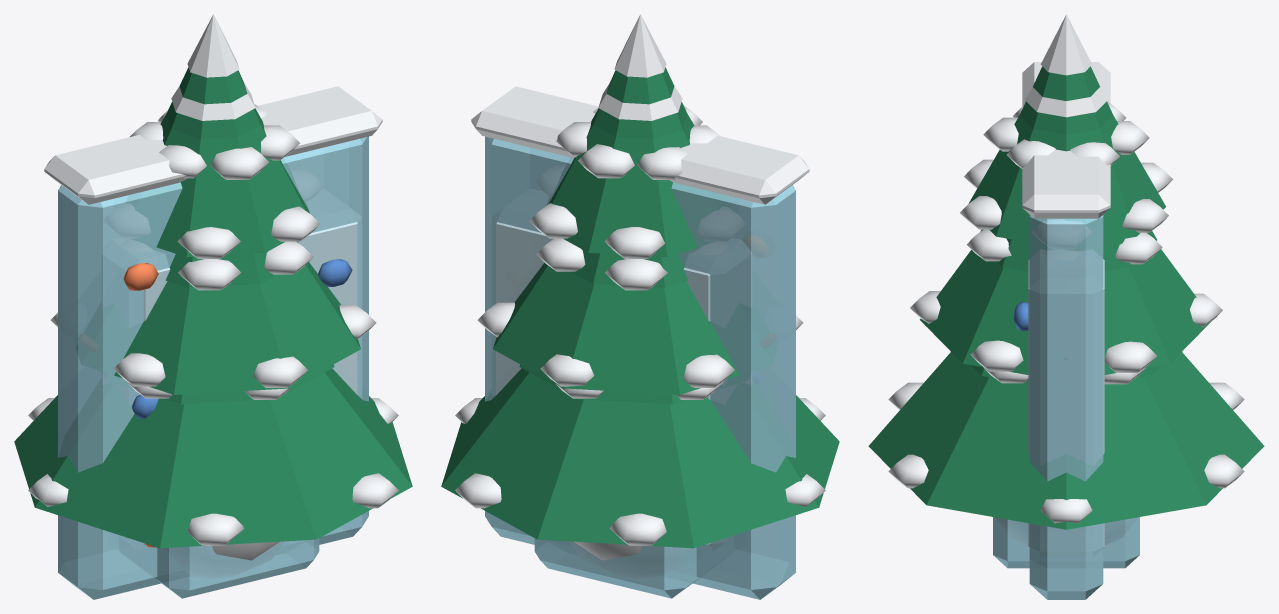
The model's file is pico-props.glb.
3 renders of one model, left to right at view 1: azimuth 30°, elevation 25°; view 2: azimuth 150°, elevation 25°; view 3: azimuth 270°, elevation 25°, orthographic. The views are drawn at different scales.
Parts seen in each view (by area): view 1: pinheiro-nevado-a, painel-de-gelo, pinheiro-nevado-b, bloco-de-gelo, boneco-de-neve; view 2: pinheiro-nevado-a, painel-de-gelo, pinheiro-nevado-b, bloco-de-gelo, boneco-de-neve; view 3: pinheiro-nevado-a, painel-de-gelo, pinheiro-nevado-b, bloco-de-gelo.
Boxes of the visible parts, x1,y1,x2,y2 form: pinheiro-nevado-a: (14,83,412,548); painel-de-gelo: (44,86,382,599); pinheiro-nevado-b: (112,14,334,404); bloco-de-gelo: (155,538,319,598); boneco-de-neve: (79,335,281,572); pinheiro-nevado-a: (441,83,839,548); painel-de-gelo: (471,86,809,599); pinheiro-nevado-b: (519,14,749,404); bloco-de-gelo: (534,538,698,598); boneco-de-neve: (573,335,771,577); pinheiro-nevado-a: (868,87,1264,529); painel-de-gelo: (1013,62,1110,599); pinheiro-nevado-b: (966,14,1162,384); bloco-de-gelo: (993,517,1139,568).
Size of the model in its own units: 2.7 by 4.02 by 2.7.
